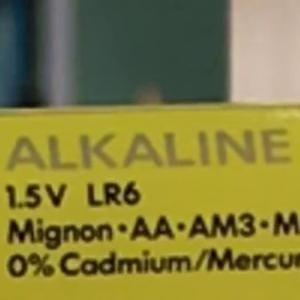ALK: (3, 127, 119, 169)
LR6: (77, 171, 151, 217)
